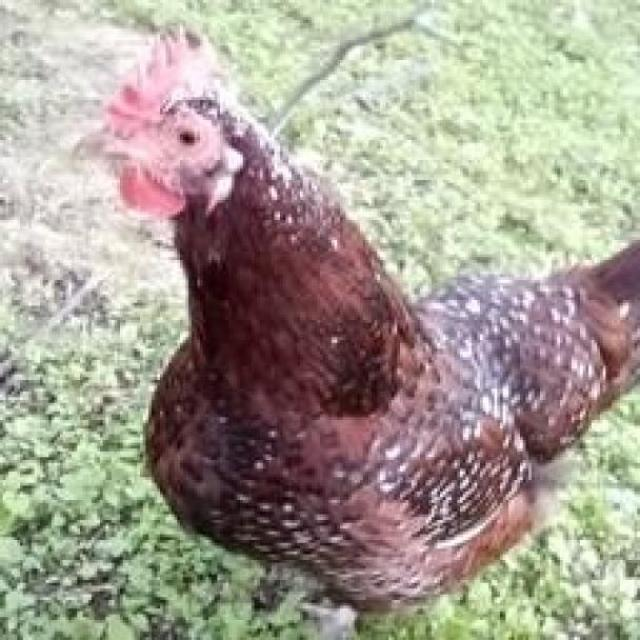Chicken: (99, 39, 640, 640)
